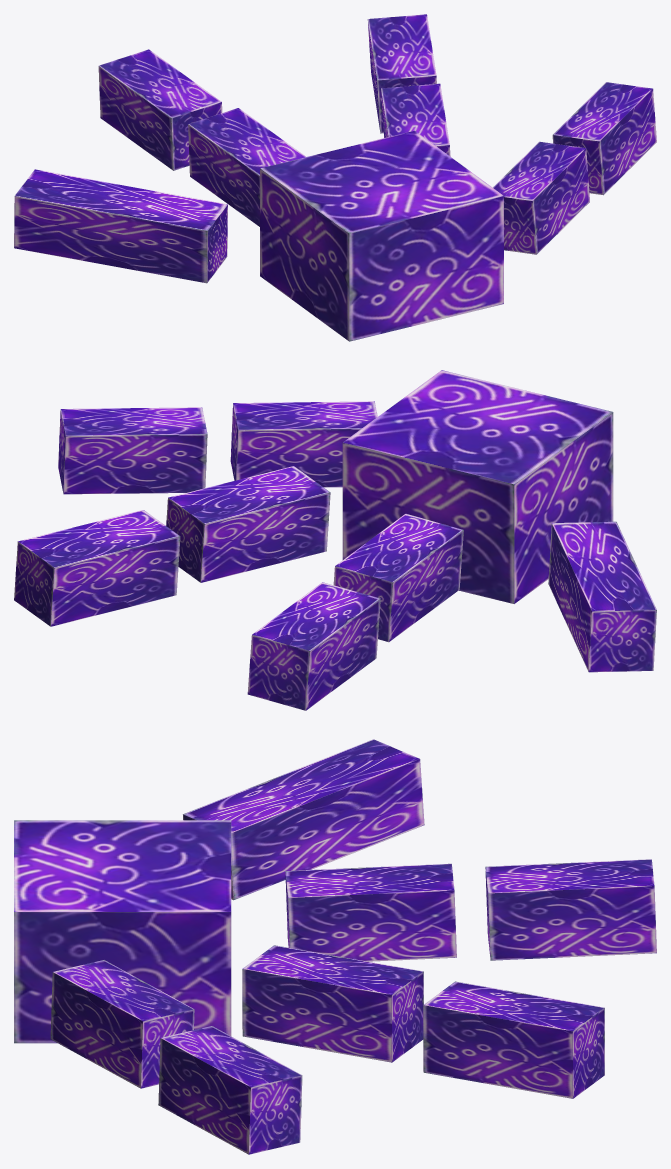
The model's file is hand.obj.
3 renders of one model, top to bottom at view 1: azimuth 30°, elevation 25°; view 2: azimuth 150°, elevation 25°; view 3: azimuth 270°, elevation 25°, orthographic. The views are drawn at different scales.
Parts seen in each view (by area): view 1: Cube, 立方体.006, 立方体.005, 立方体, 立方体.004, 立方体.001, 立方体.002, 立方体.003; view 2: Cube, 立方体.002, 立方体.003, 立方体.006, 立方体.001, 立方体.005, 立方体.004, 立方体; view 3: Cube, 立方体.006, 立方体.002, 立方体.003, 立方体.005, 立方体.004, 立方体.001, 立方体.
Part boxes in pixels (left/top/right/bottom): Cube: left=260, top=130, right=503, bottom=341; 立方体.006: left=14, top=169, right=227, bottom=283; 立方体.005: left=98, top=49, right=222, bottom=170; 立方体: left=493, top=141, right=589, bottom=254; 立方体.004: left=188, top=108, right=305, bottom=226; 立方体.001: left=552, top=82, right=656, bottom=195; 立方体.002: left=367, top=14, right=436, bottom=133; 立方体.003: left=381, top=83, right=450, bottom=156; Cube: left=342, top=370, right=613, bottom=603; 立方体.002: left=14, top=510, right=180, bottom=626; 立方体.003: left=166, top=466, right=330, bottom=582; 立方体.006: left=548, top=521, right=656, bottom=672; 立方体.001: left=58, top=407, right=207, bottom=494; 立方体.005: left=247, top=582, right=380, bottom=710; 立方体.004: left=333, top=513, right=463, bottom=642; 立方体: left=230, top=401, right=377, bottom=487; Cube: left=14, top=820, right=231, bottom=1043; 立方体.006: left=183, top=739, right=424, bottom=900; 立方体.002: left=423, top=981, right=604, bottom=1098; 立方体.003: left=242, top=945, right=423, bottom=1062; 立方体.005: left=485, top=859, right=656, bottom=960; 立方体.004: left=285, top=863, right=456, bottom=961; 立方体.001: left=158, top=1026, right=302, bottom=1154; 立方体: left=50, top=960, right=194, bottom=1088.
Size of the model in its own units: 22.92 by 4 by 17.74.
Materials: 8 (8 with a texture image).
